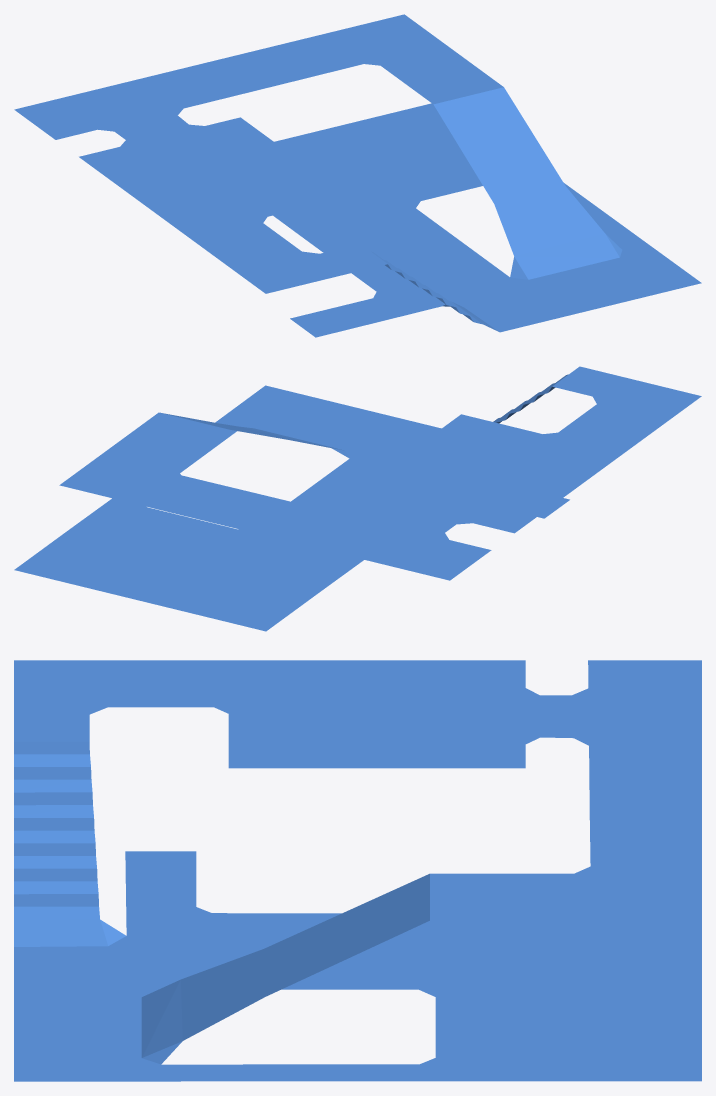
File: Navmesh.glb
The picture shows the model from 3 angles, top to bottom: view 1: azimuth 30°, elevation 25°; view 2: azimuth 150°, elevation 25°; view 3: azimuth 270°, elevation 25°; orthographic projection. The views are drawn at different scales.
Parts seen in each view (by area): view 1: Navmesh; view 2: Navmesh; view 3: Navmesh.
Boxes of the visible parts, box(x1,y1,x2,y2) form: Navmesh: box(14, 14, 701, 337); Navmesh: box(14, 366, 701, 631); Navmesh: box(14, 660, 701, 1081).
Size of the model in its own units: 9.54 by 2 by 9.54.
